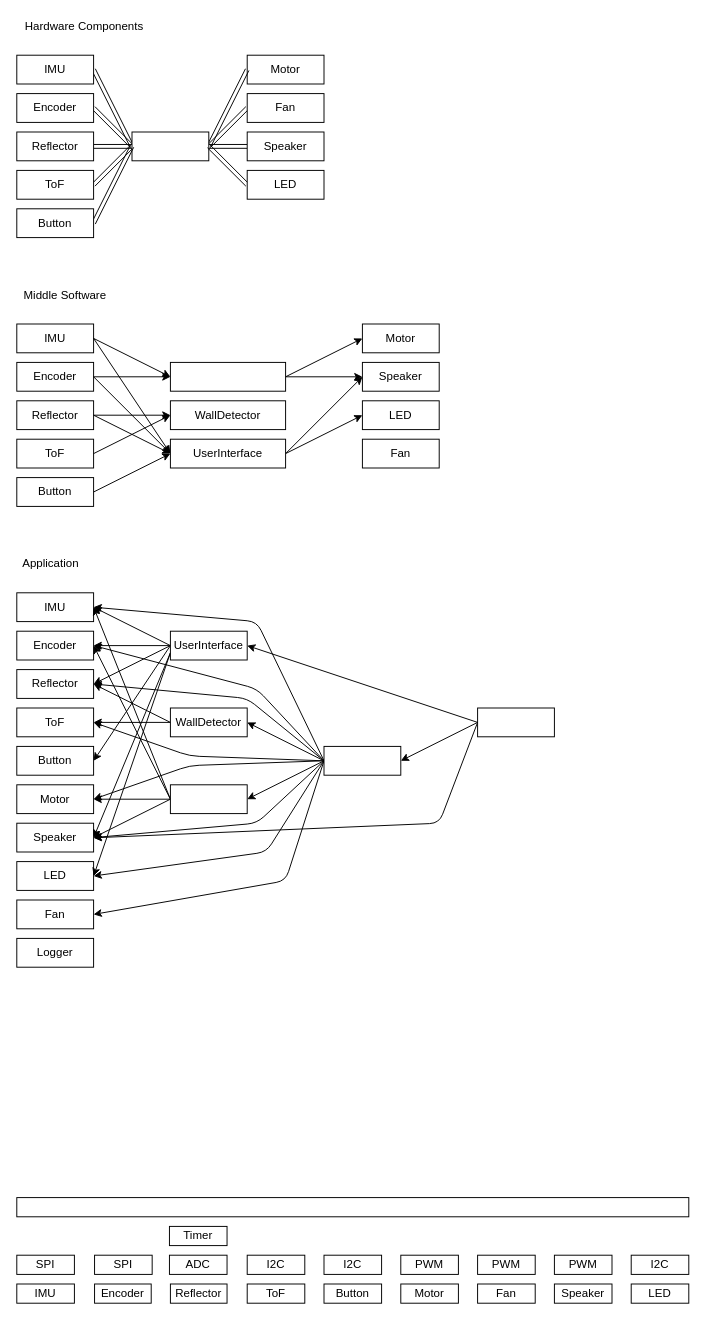
This 706x1320 diagram has some shape labels left out. Each missing label, with the centre of its shape:
"FreeRTOS" belongs at [352,1207].
"MazeRobot" belongs at [515,722].
"MCU" belongs at [170,146].
"MoveAction" belongs at [362,760].
"Speed Controller" belongs at [208,799].
"SpeedController" belongs at [227,376].
